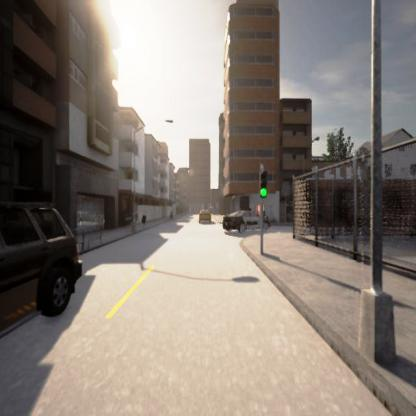vehicle: (0, 201, 83, 322), (223, 210, 268, 234), (198, 209, 213, 223)
